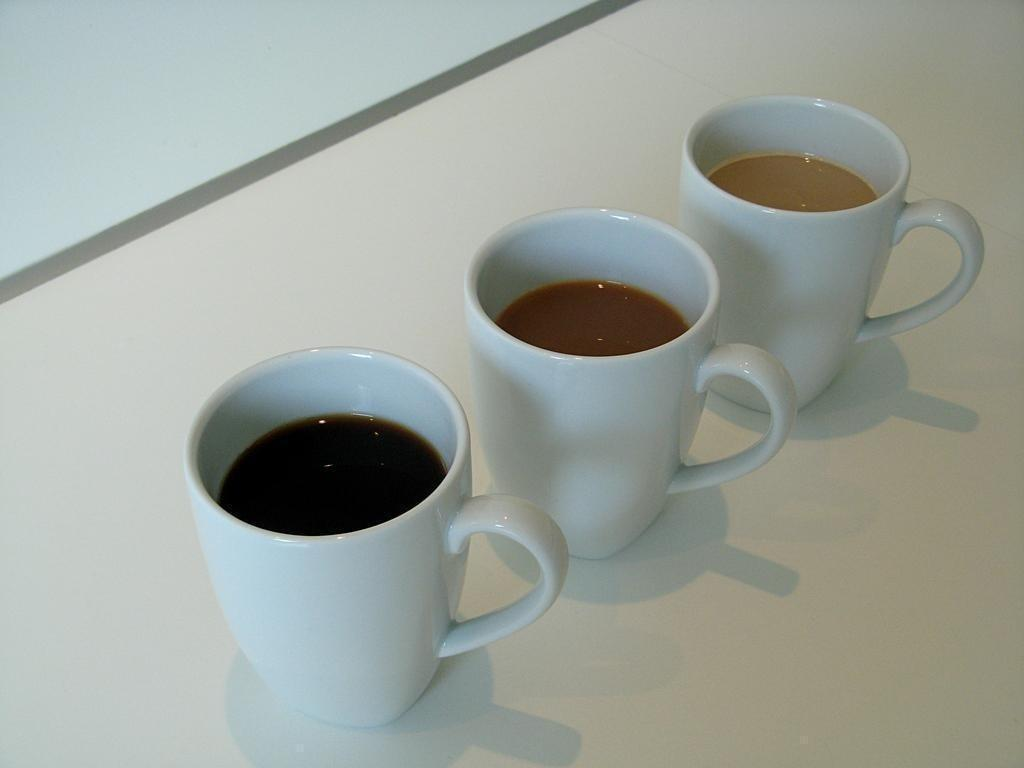cup-handle: (180, 345, 572, 727), (460, 205, 799, 557), (676, 91, 986, 412)
